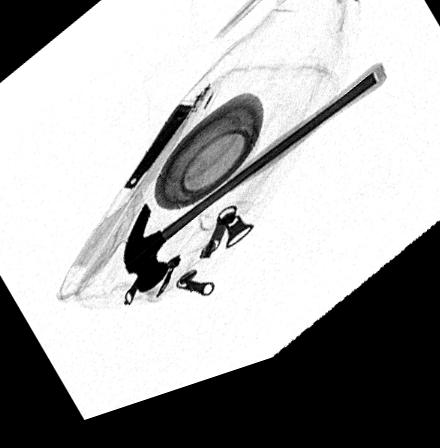Hammer: (123, 86, 388, 301)
